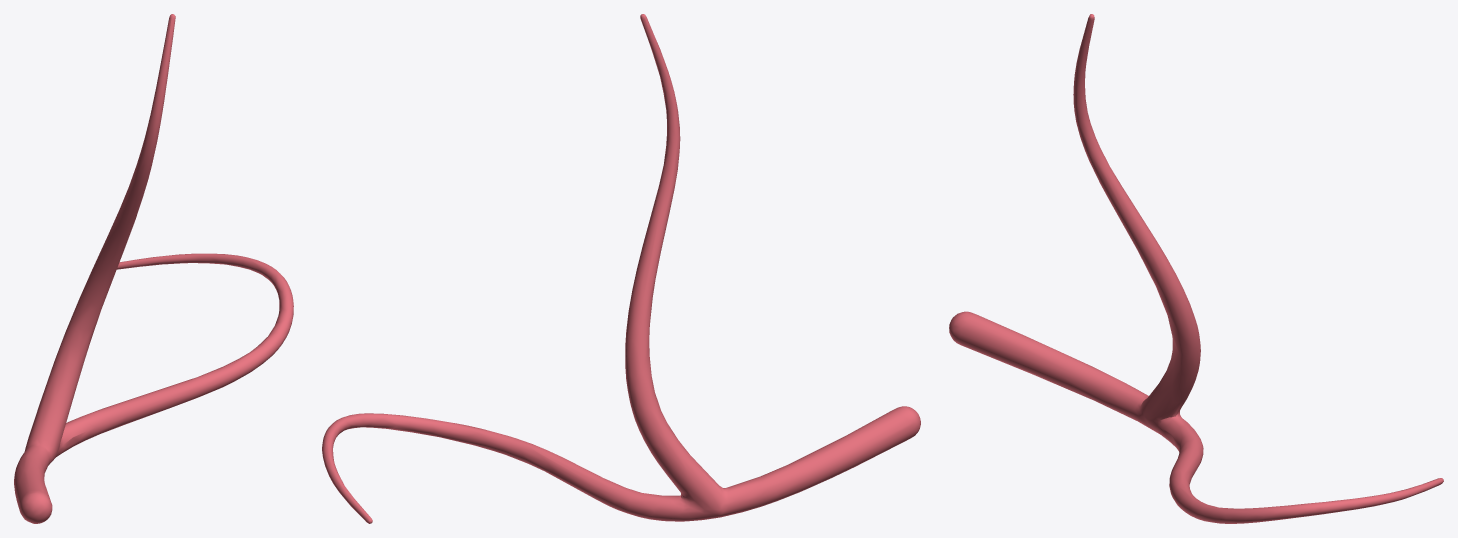
Rendered from fma20802_fj2091.glb.
The picture shows the model from 3 angles, left to right: view 1: azimuth 30°, elevation 25°; view 2: azimuth 150°, elevation 25°; view 3: azimuth 270°, elevation 25°; orthographic projection. The views are drawn at different scales.
Parts seen in each view (by area): view 1: FMA20802_FJ2091; view 2: FMA20802_FJ2091; view 3: FMA20802_FJ2091.
Boxes of the visible parts, box(x1,y1,x2,y2) form: FMA20802_FJ2091: box(14, 14, 293, 523); FMA20802_FJ2091: box(322, 14, 920, 523); FMA20802_FJ2091: box(949, 14, 1443, 523).
Size of the model in its own units: 0.0717 by 0.0741 by 0.0712.
